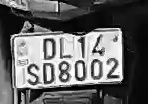0: (70, 59, 89, 84), (90, 60, 104, 81)
1: (77, 35, 89, 60)
2: (105, 57, 120, 82)
4: (89, 34, 108, 56)
8: (58, 60, 71, 85)
D: (41, 35, 58, 61), (40, 62, 56, 86)
L: (58, 38, 72, 60)
S: (23, 62, 41, 87)
